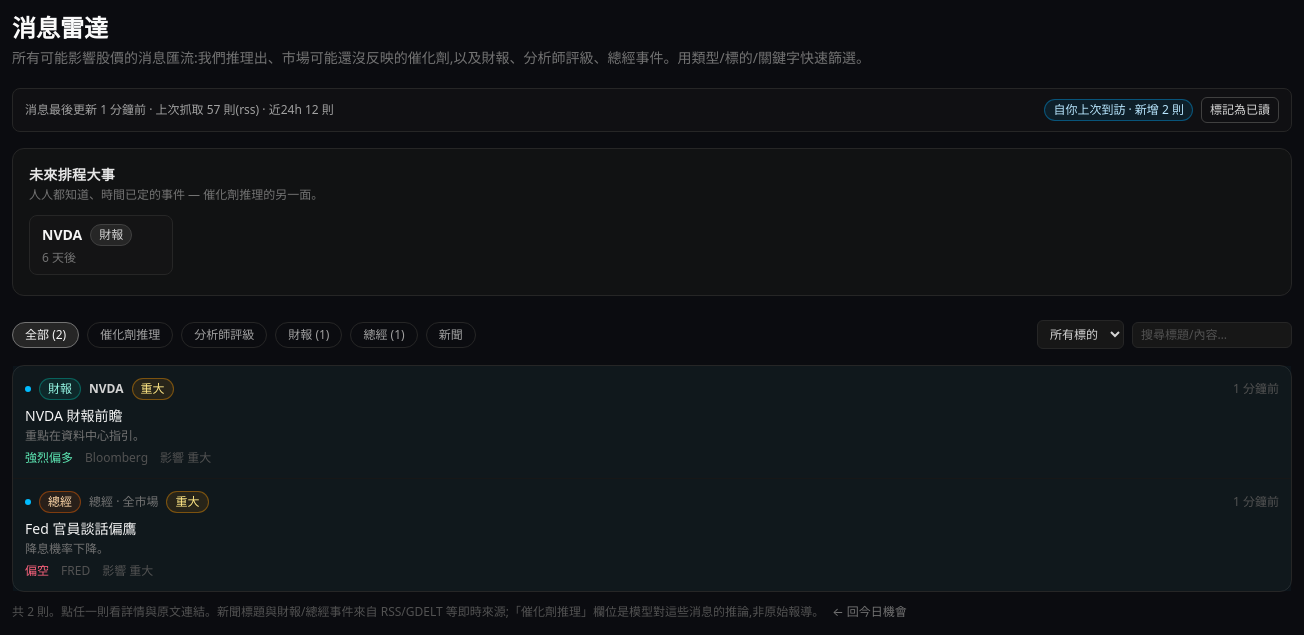
NewsRadar › marks items newer than the stored last-seen timestamp as new, and clears on 標記為已讀
The image size is (1304, 635).
Check: the text "自你上次到訪 · 新增 2 則" is shown, box [1044,99,1193,121]
Click the button "標記為已讀": (1240, 110) [1201,97,1279,123]
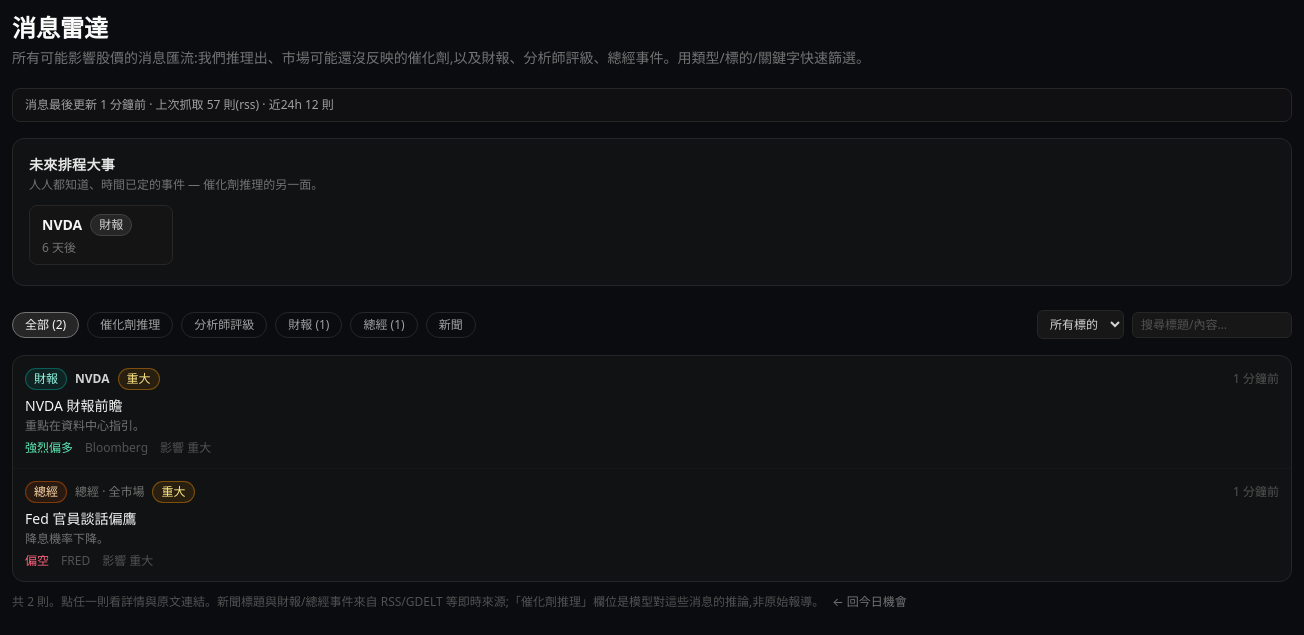
Check: the text "自你上次到訪" is gone
